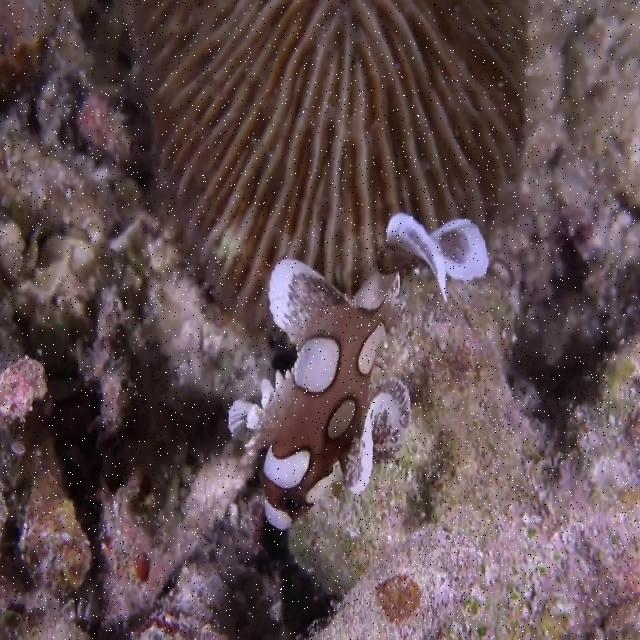fish: (226, 257, 413, 532), (387, 212, 489, 302)
reefs: (123, 0, 532, 334)
